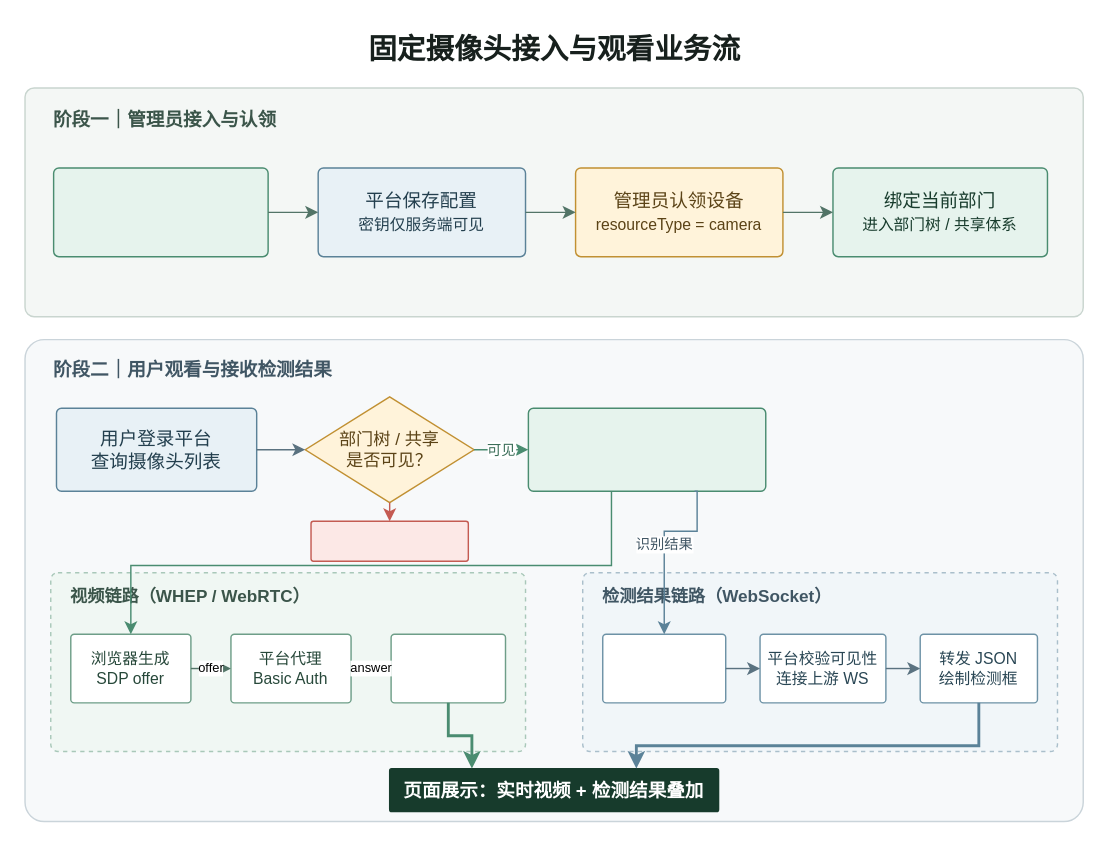
The diagram is 1108 pixels wide and 847 high, and some of its shapes have lost their labels. Here are the shapes that lost their labels. From the top down, the box of each, then its label:
(52, 167, 268, 257): 管理员登记摄像头 WHEP / Results WS / 密钥
(527, 407, 766, 491): 获取播放配置 WHEP 路径 + Results WS 路径
(310, 520, 468, 561): 不可见：返回 404
(390, 633, 506, 703): 上游返回 SDP 直传 WebRTC 媒体
(601, 633, 726, 703): 浏览器连接 平台 WS + Token
